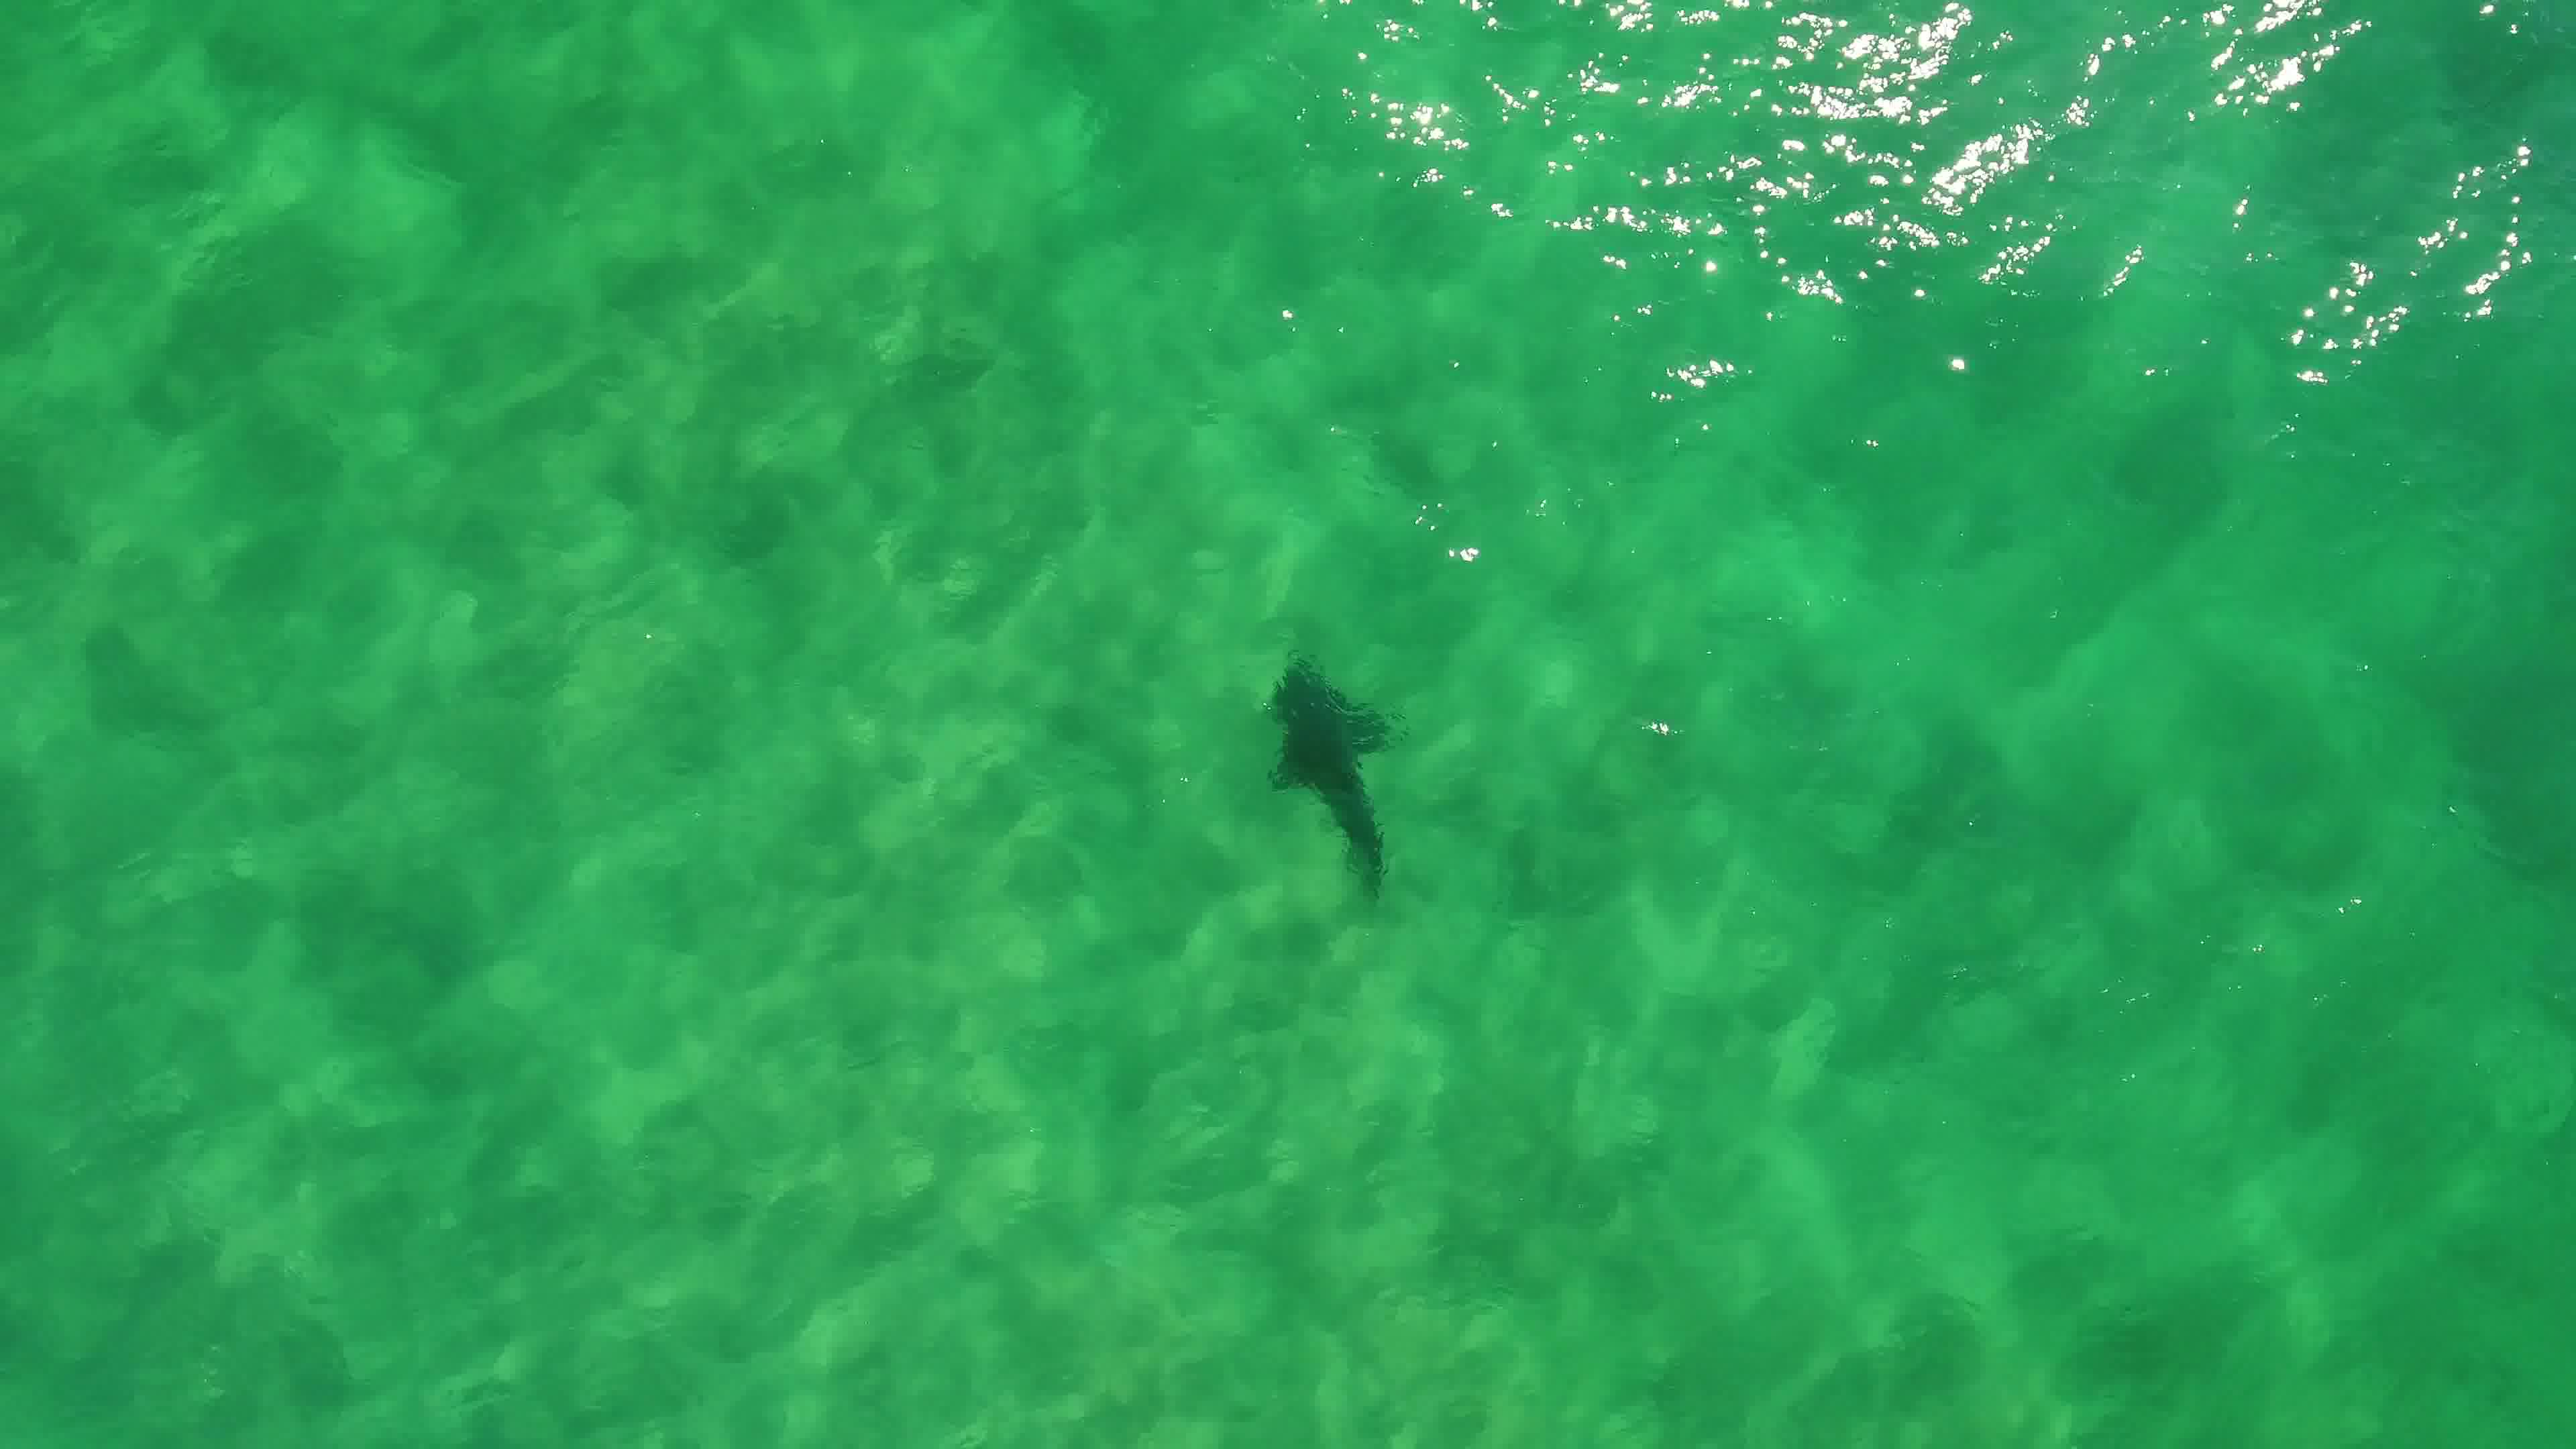shark: (1253, 642, 1405, 906)
